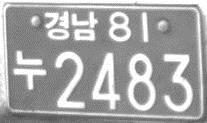1: (140, 9, 150, 44)
2: (54, 49, 84, 110)
3: (161, 52, 194, 114)
4: (89, 50, 122, 109)
8: (126, 51, 157, 111), (108, 11, 132, 42)
경남_O: (43, 10, 99, 43)
누: (13, 48, 47, 92)
